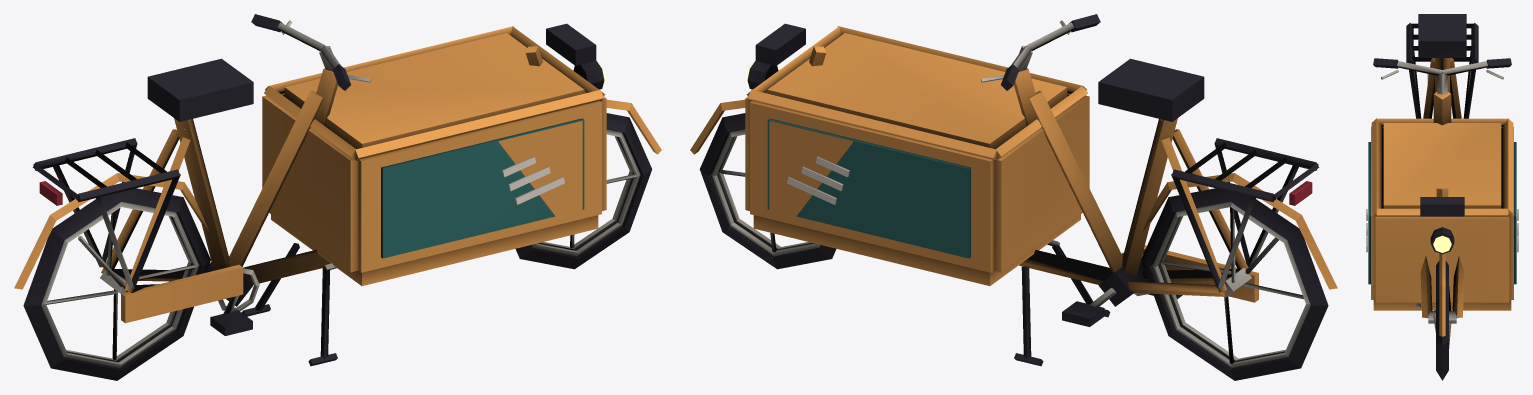
The model's file is veh.courier-bike.lod1.glb.
The picture shows the model from 3 angles, left to right: view 1: azimuth 30°, elevation 25°; view 2: azimuth 150°, elevation 25°; view 3: azimuth 270°, elevation 25°; orthographic projection. The views are drawn at different scales.
Parts seen in each view (by area): view 1: object 6, body, wheelR, wheelF, handlebar, lightsFront; view 2: object 6, body, wheelR, wheelF, handlebar, lightsFront; view 3: object 6, body, handlebar, wheelF, lightsFront.
Boxes of the visible parts, x1,y1,x2,y2 form: object 6: (147, 26, 606, 285); body: (14, 23, 661, 366); wheelR: (23, 188, 210, 380); wheelF: (515, 113, 652, 269); handlebar: (251, 14, 370, 90); lightsFront: (573, 61, 605, 89); object 6: (745, 26, 1204, 285); body: (690, 23, 1337, 366); wheelR: (1141, 188, 1328, 380); wheelF: (699, 113, 836, 269); handlebar: (981, 14, 1100, 90); lightsFront: (746, 61, 778, 89); object 6: (1366, 14, 1518, 310); body: (1406, 23, 1478, 336); handlebar: (1373, 58, 1511, 94); wheelF: (1428, 261, 1456, 380); lightsFront: (1430, 227, 1454, 254).
Size of the model in its own units: 2.8 by 1.2 by 0.754.
